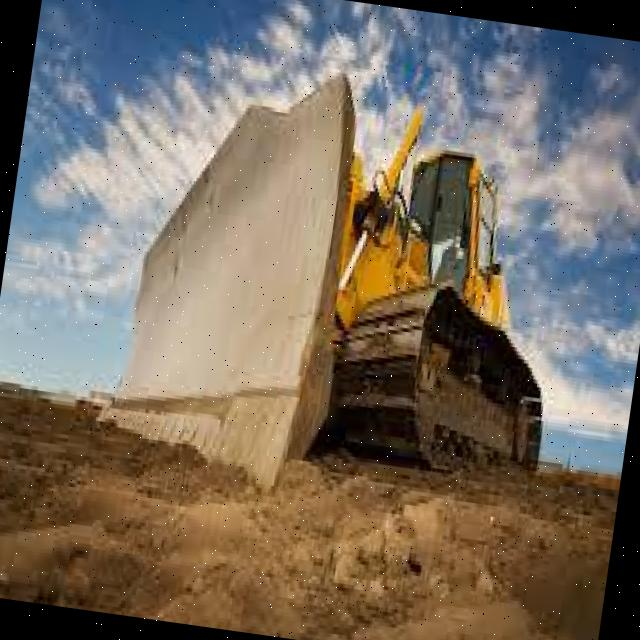Bulldozer: (97, 33, 617, 544)
